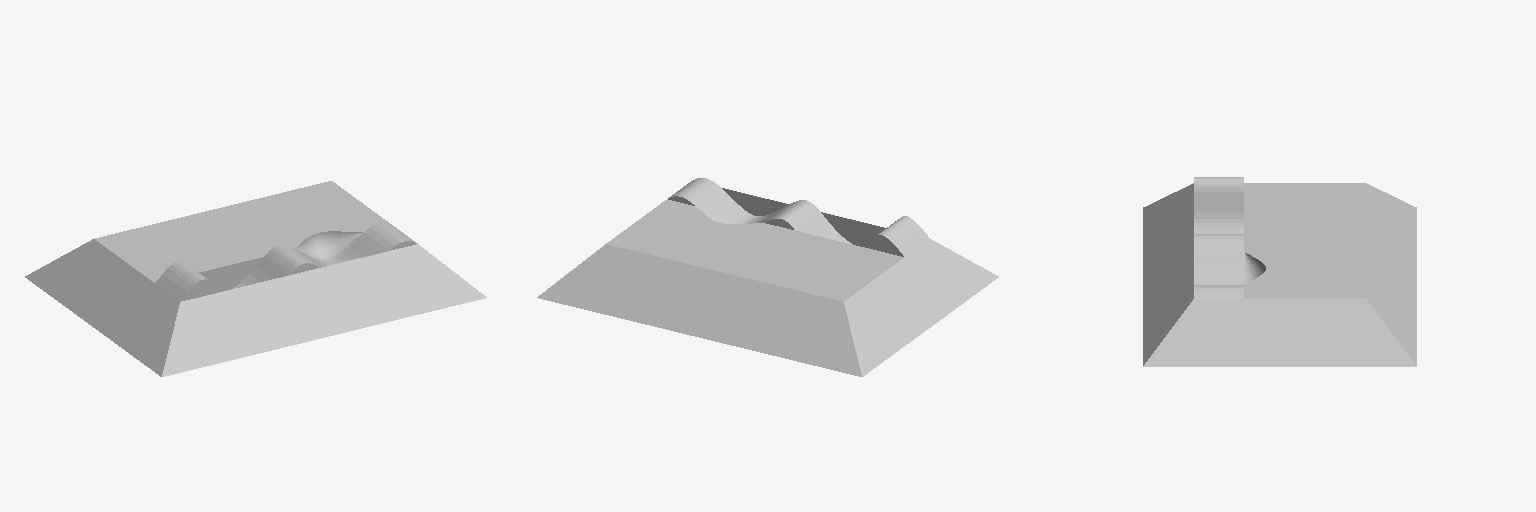
The model's file is skatepark 2.obj.
The picture shows the model from 3 angles: view 1: azimuth 30°, elevation 25°; view 2: azimuth 150°, elevation 25°; view 3: azimuth 270°, elevation 25°; orthographic projection.
Visible parts, largest first — view 1: Skatepark2; view 2: Skatepark2; view 3: Skatepark2.
Part boxes in pixels (bbox=[...]): Skatepark2: bbox=[25, 181, 486, 376]; Skatepark2: bbox=[537, 178, 998, 376]; Skatepark2: bbox=[1143, 177, 1416, 366].
Size of the model in its own units: 46.99 by 8.65 by 34.29.